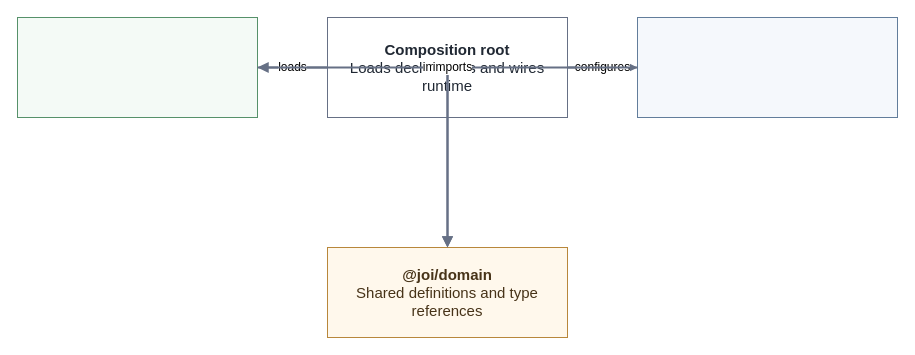
Some shapes in this 915 by 355 pixel diagram are drawn without their labels. Here are the shapes that lost their labels. From the top down, the centre of each, then its label:
point 137,67: Domain packages Entities and actions grades, future domains
point 767,67: Generic infrastructure Storage, APIs, UI, action dispatch
